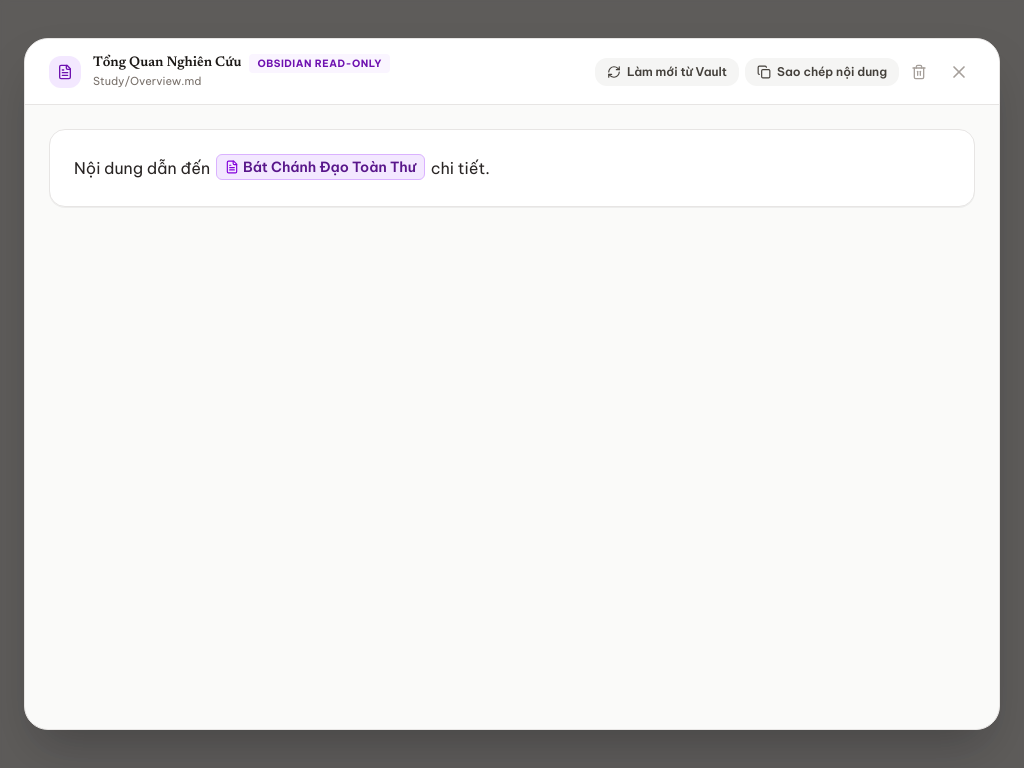
Scenario: Phase P4.2C: ObsidianDocumentViewerModal Wiki-Link Click Handling › fetches and renders destination note when clicking a resolved wiki-link
This screenshot has width=1024, height=768.
Check: the heading "Tổng Quan Nghiên Cứu" is shown, box [93, 53, 241, 73]
Click on the wiki link
Click the link "Bát Chánh Đạo Toàn Thư" at point(320, 167), box [216, 154, 425, 180]
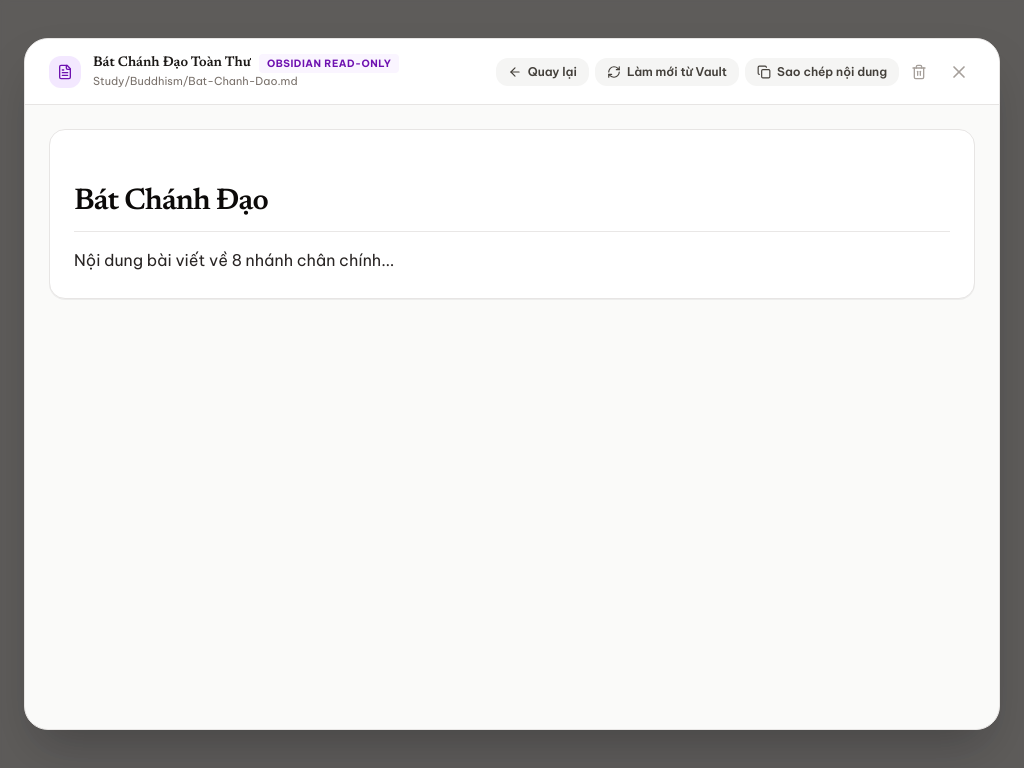
Check: the text "Nội dung bài viết về 8 nhánh chân chính..." is shown, box [74, 250, 394, 270]
Check: the button "Quay lại" is shown, box [496, 58, 589, 86]
